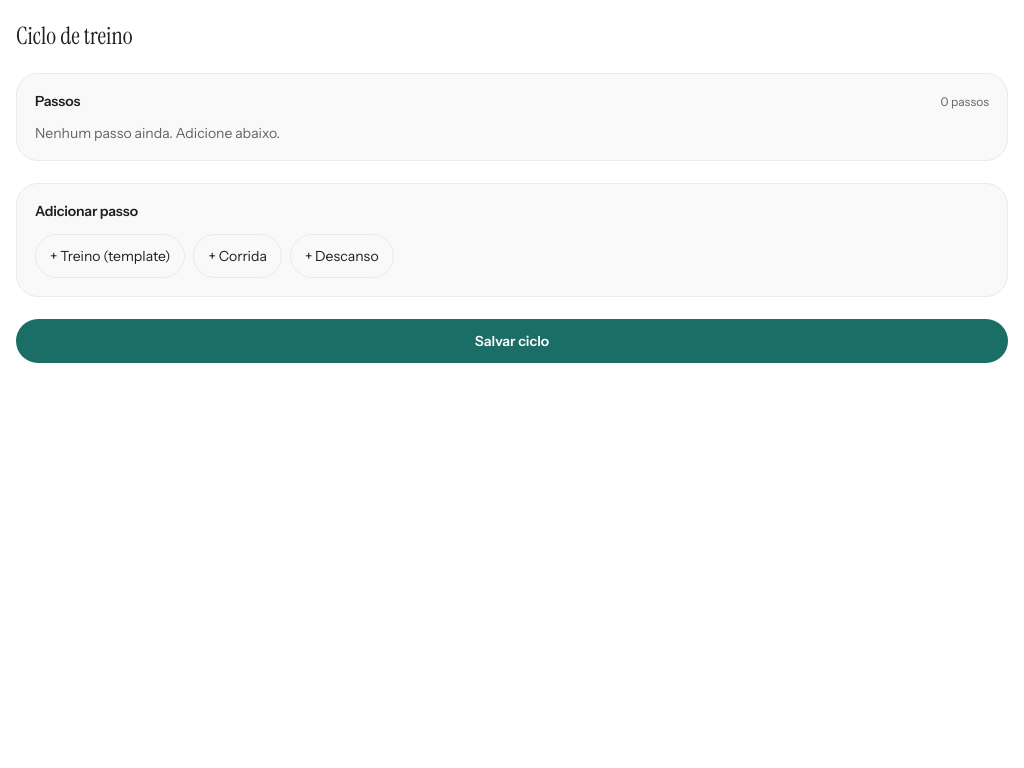
Test: CycleEditor › template step needs template_id › prevents saving a template step that has no template selected
# Click to add a template step but do NOT select a template
Step 1. Click the button with aria-label "adicionar template" → [110, 256], box [35,234,186,278]
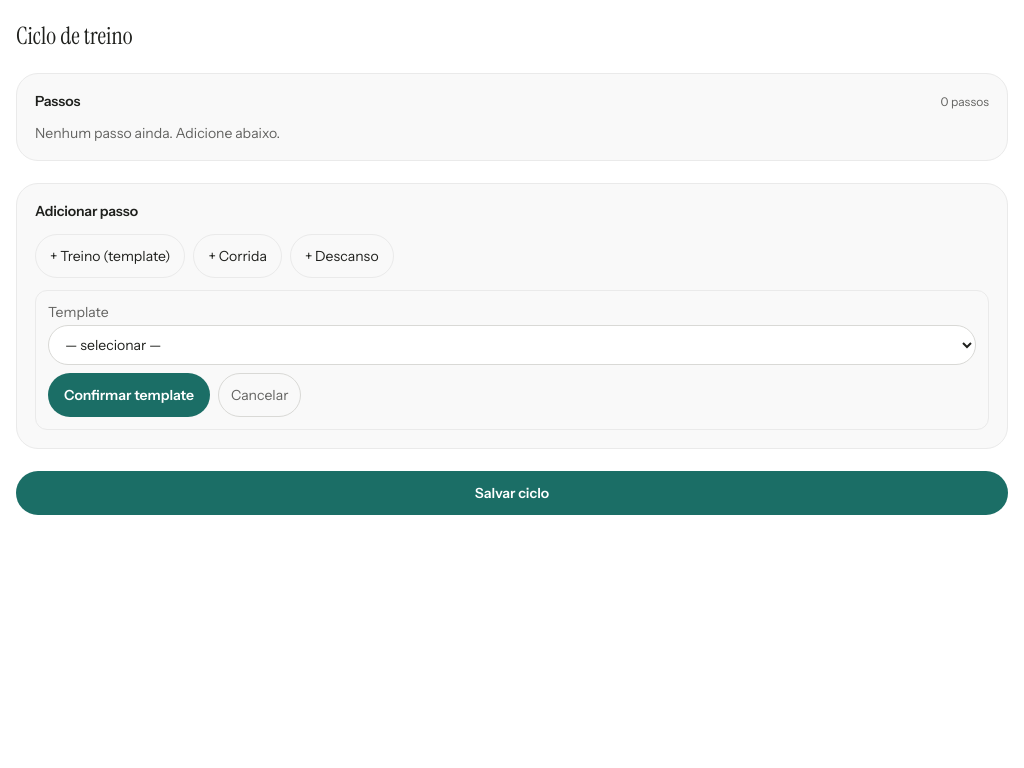
# Try to confirm without selecting
Step 2. Click the button "Confirmar template" → [129, 395], box [48,373,210,417]
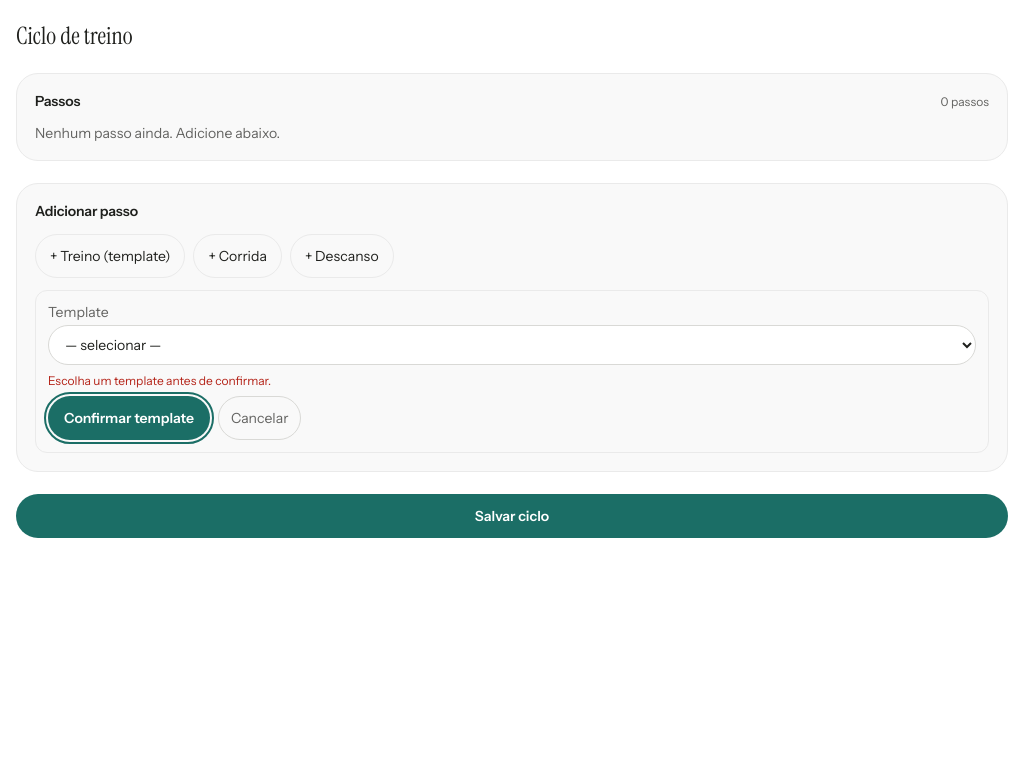
Expected: the text "0 passos" is shown, [940,94,989,109]
Now the message "Escolha um template antes de confirmar." is shown, box [48,373,271,388]
